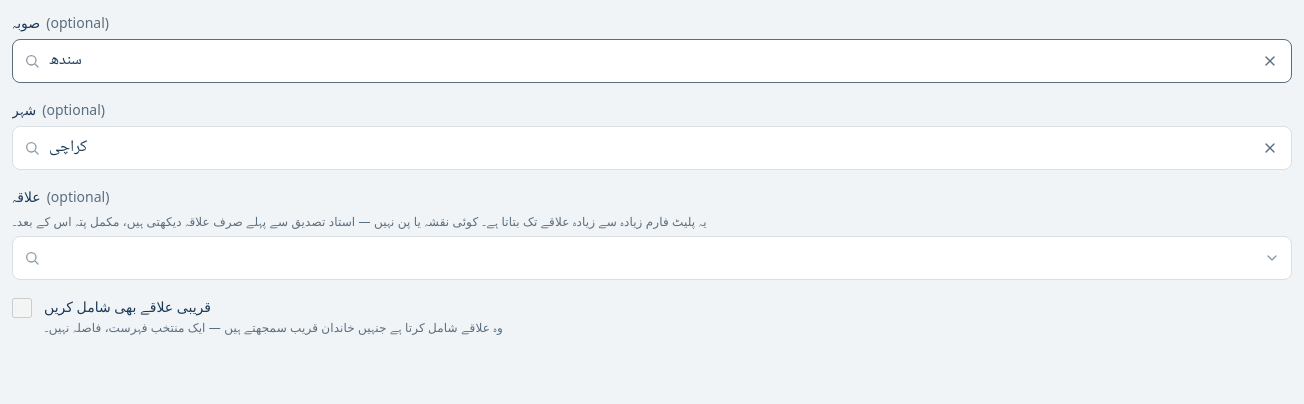
LocationPicker › falls back to the Latin name when there is no Urdu one
Click the dropdown labelled "علاقہ(optional)" at (652, 258), box [12, 236, 1292, 280]
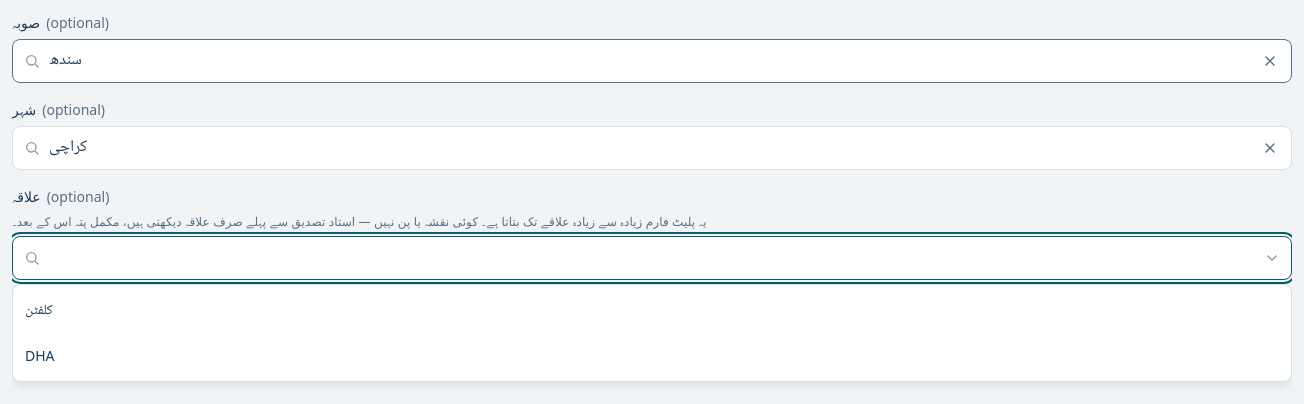
Expected: the option "کلفٹن" is shown, [25, 299, 53, 323]
